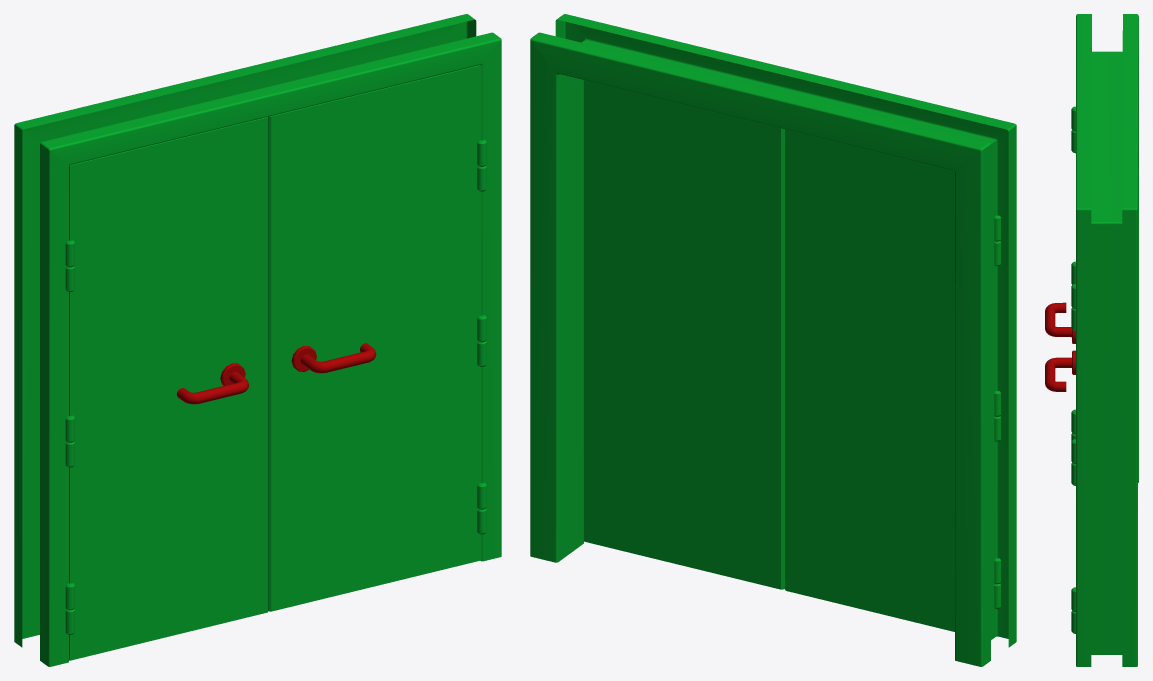
Rendered from SM_door_wide.fbx.
3 renders of one model, left to right at view 1: azimuth 30°, elevation 25°; view 2: azimuth 150°, elevation 25°; view 3: azimuth 270°, elevation 25°, orthographic. The views are drawn at different scales.
Parts seen in each view (by area): view 1: SM_door_wide_leaf_2, SM_door_wide_leaf_1, SM_door_wide_frame, SM_door_wide_handle_2, SM_door_wide_handle_1; view 2: SM_door_wide_leaf_2, SM_door_wide_leaf_1, SM_door_wide_frame; view 3: SM_door_wide_frame, SM_door_wide_handle_2, SM_door_wide_leaf_2, SM_door_wide_handle_1, SM_door_wide_leaf_1.
Part boxes in pixels (x1,y1,x2,y2): SM_door_wide_leaf_2: (268,65,486,611); SM_door_wide_leaf_1: (65,117,268,660); SM_door_wide_frame: (14,14,501,666); SM_door_wide_handle_2: (291,343,376,373); SM_door_wide_handle_1: (176,363,249,404); SM_door_wide_leaf_2: (582,40,795,589); SM_door_wide_leaf_1: (785,91,1000,638); SM_door_wide_frame: (530,14,1016,666); SM_door_wide_frame: (1076,14,1138,666); SM_door_wide_handle_2: (1045,350,1075,391); SM_door_wide_leaf_2: (1071,284,1075,633); SM_door_wide_handle_1: (1045,302,1075,343); SM_door_wide_leaf_1: (1071,106,1075,441).
Bounding box in the file's own units: 2.04 × 2.23 × 0.4131.
